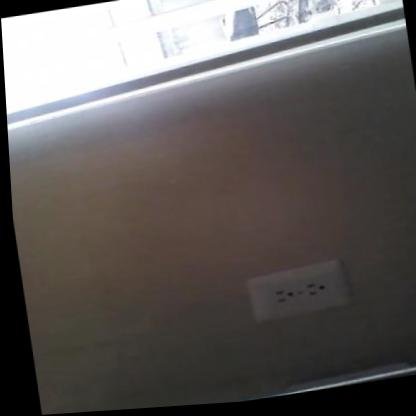OUTLET: (247, 258, 348, 322)
